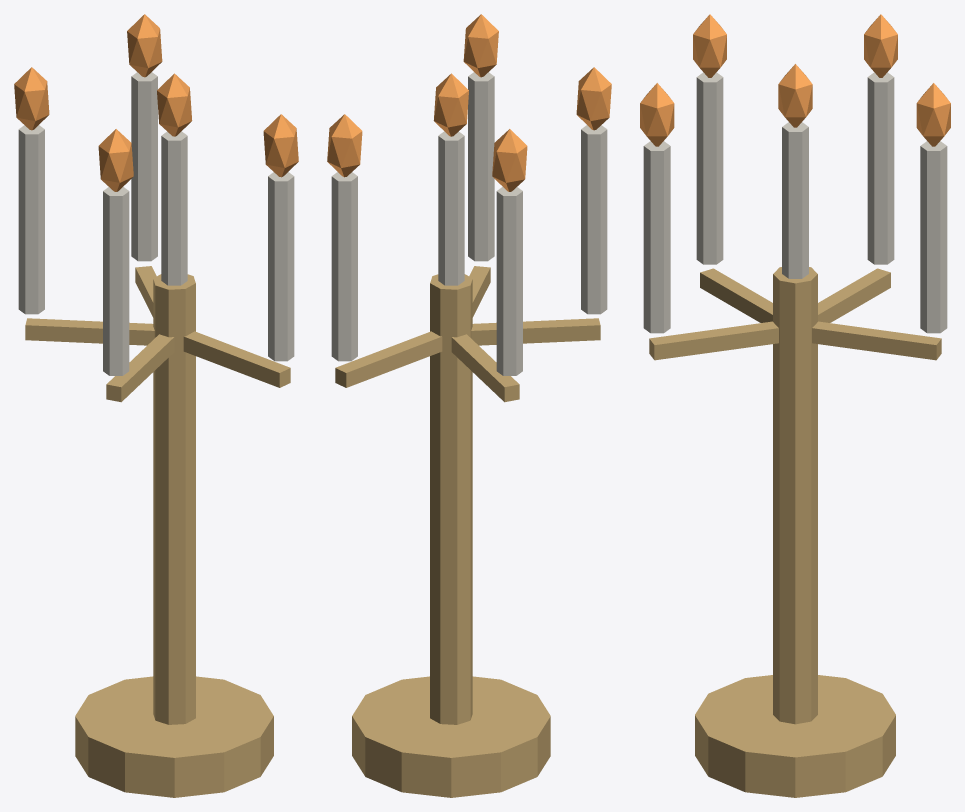
Rendered from SM_Mob_Samdan.fbx.
3 renders of one model, left to right at view 1: azimuth 30°, elevation 25°; view 2: azimuth 150°, elevation 25°; view 3: azimuth 270°, elevation 25°, orthographic.
Parts seen in each view (by area): view 1: Mob_Samdan; view 2: Mob_Samdan; view 3: Mob_Samdan.
Boxes of the visible parts, x1,y1,x2,y2 form: Mob_Samdan: [14, 14, 298, 797]; Mob_Samdan: [327, 14, 611, 797]; Mob_Samdan: [640, 14, 950, 797].
Bounding box in the file's own units: 21.13 × 68.24 × 27.79.
